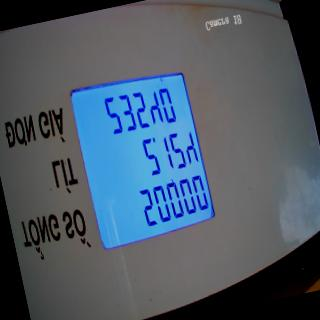screen: (66, 65, 222, 258)
